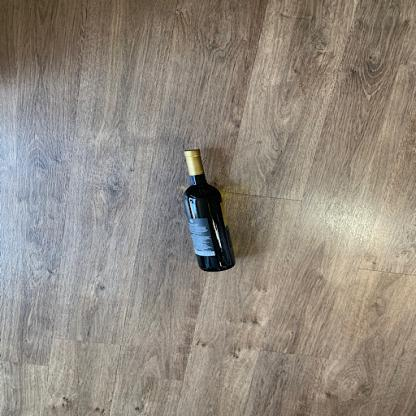trash: (180, 148, 240, 273)
